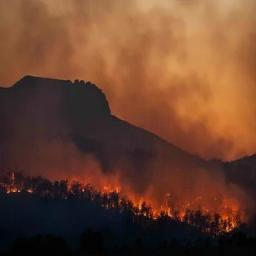Low smoke: (0, 0, 255, 208)
Small fire: (1, 151, 256, 238)
